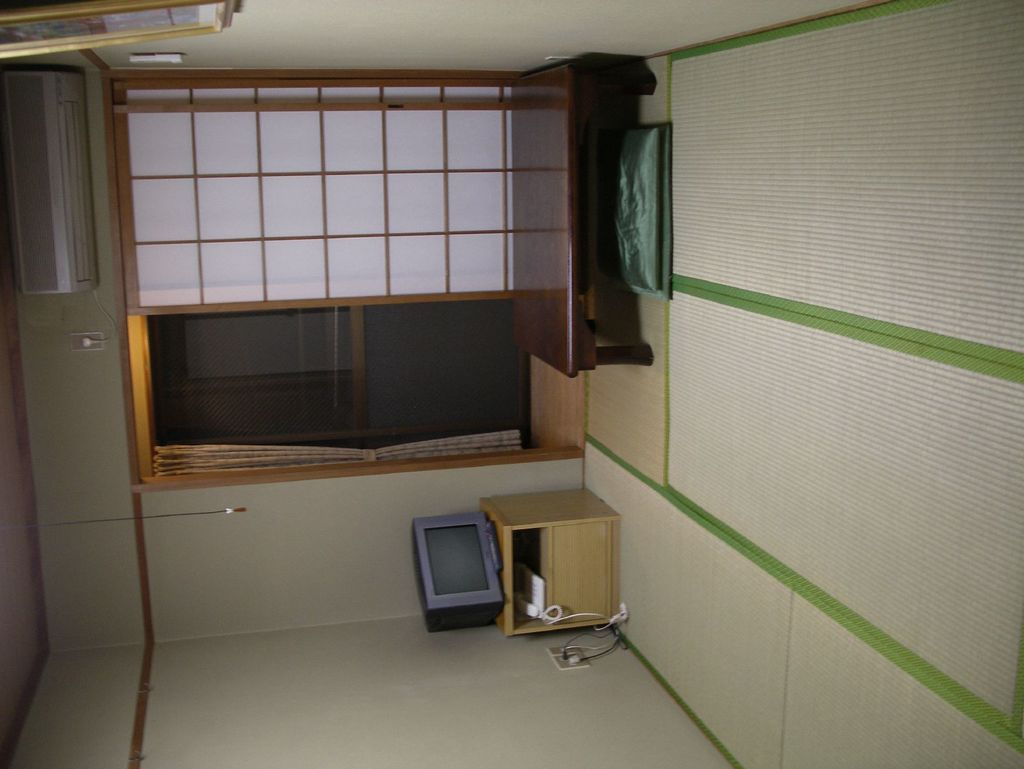door: (114, 87, 522, 293)
